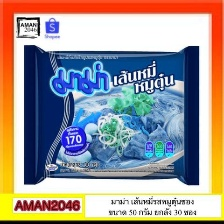snack: (16, 40, 206, 190)
